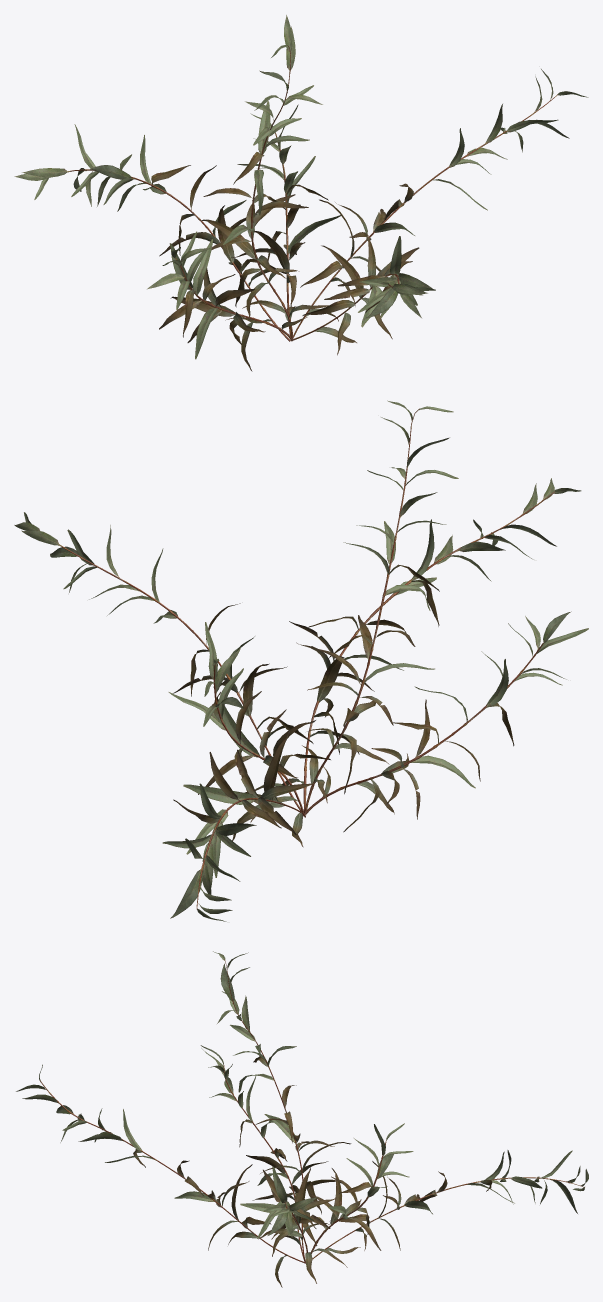
The model's file is shrub-c.glb.
The picture shows the model from 3 angles, top to bottom: view 1: azimuth 30°, elevation 25°; view 2: azimuth 150°, elevation 25°; view 3: azimuth 270°, elevation 25°; orthographic projection. The views are drawn at different scales.
Visible parts, largest first — view 1: shrub_02_c; view 2: shrub_02_c; view 3: shrub_02_c.
Boxes of the visible parts, box(x1,y1,x2,y2) form: shrub_02_c: box(14, 15, 588, 371); shrub_02_c: box(14, 400, 588, 921); shrub_02_c: box(16, 951, 588, 1287).
Bounding box in the file's own units: 1.77 × 1.31 × 2.29.
Materials: 1 (1 with a texture image).
